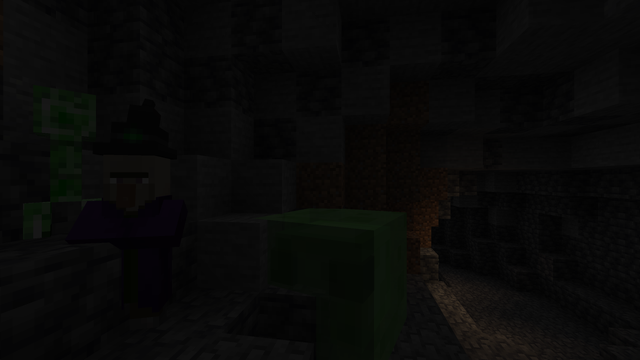creepers: (14, 78, 112, 238)
slimes: (255, 204, 406, 355)
sorcieres: (89, 146, 181, 342)
